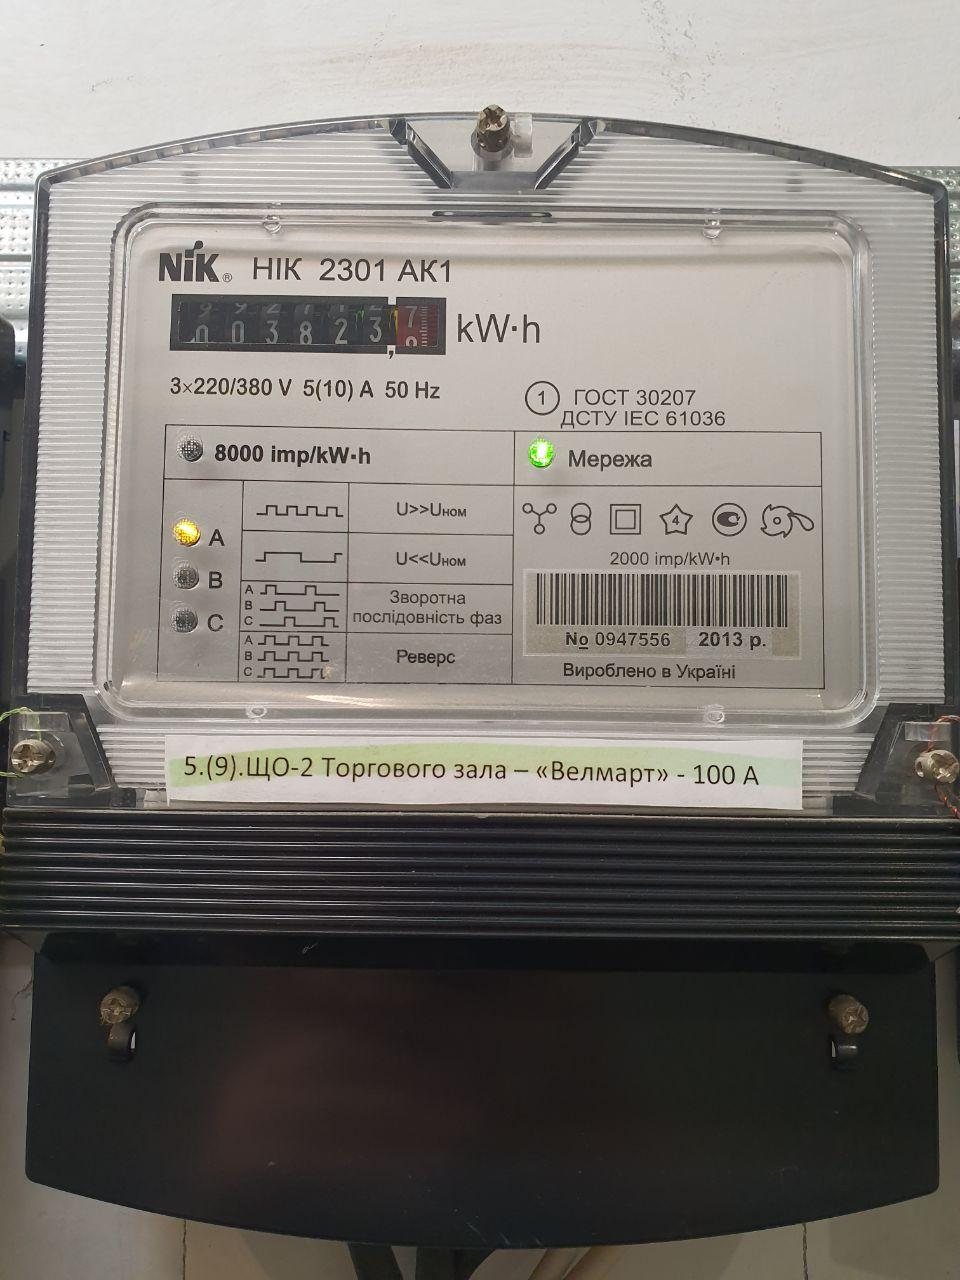0: (227, 317, 247, 344), (193, 321, 211, 344)
2: (332, 315, 351, 347)
3: (367, 314, 385, 344), (263, 316, 281, 345)
7: (404, 304, 419, 332)
8: (297, 318, 314, 346)
9: (195, 300, 213, 319)
screen: (163, 289, 451, 360)
